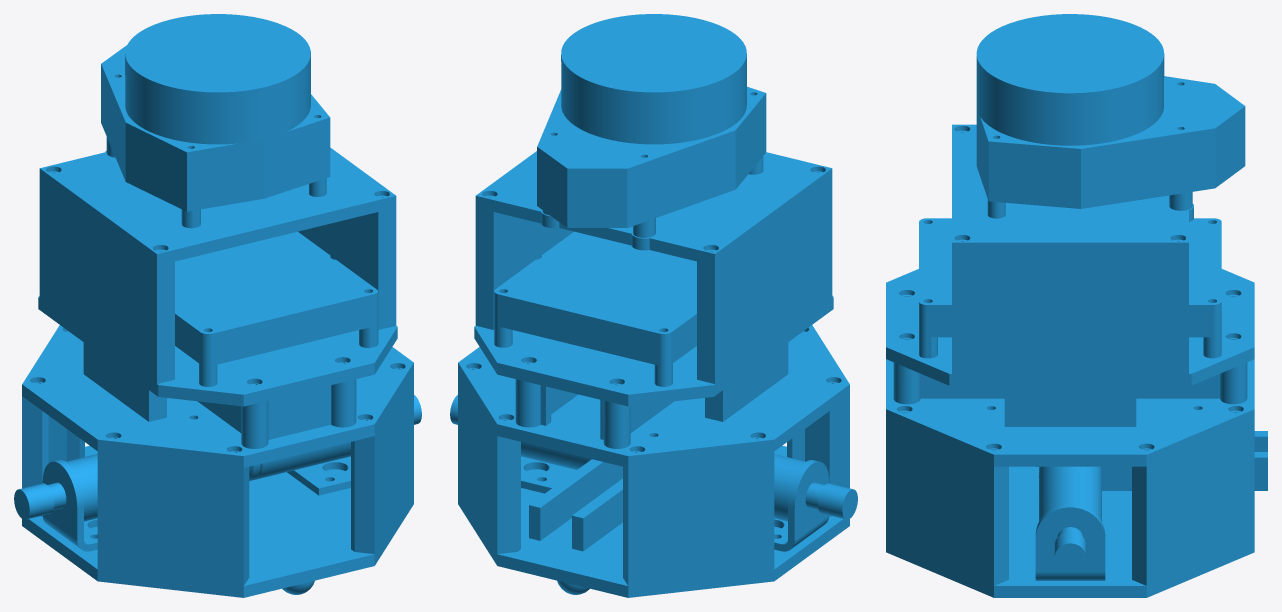
3 views of the same model, side by side, from view 1: azimuth 30°, elevation 25°; view 2: azimuth 150°, elevation 25°; view 3: azimuth 270°, elevation 25° (orthographic).
Visible parts, largest first — view 1: base_link; view 2: base_link; view 3: base_link.
Part boxes in pixels (x1,y1,x2,y2): base_link: (14, 14, 421, 597); base_link: (450, 14, 857, 597); base_link: (886, 14, 1267, 597).
Bounding box in the file's own units: 0.1737 × 0.145 × 0.2042.
